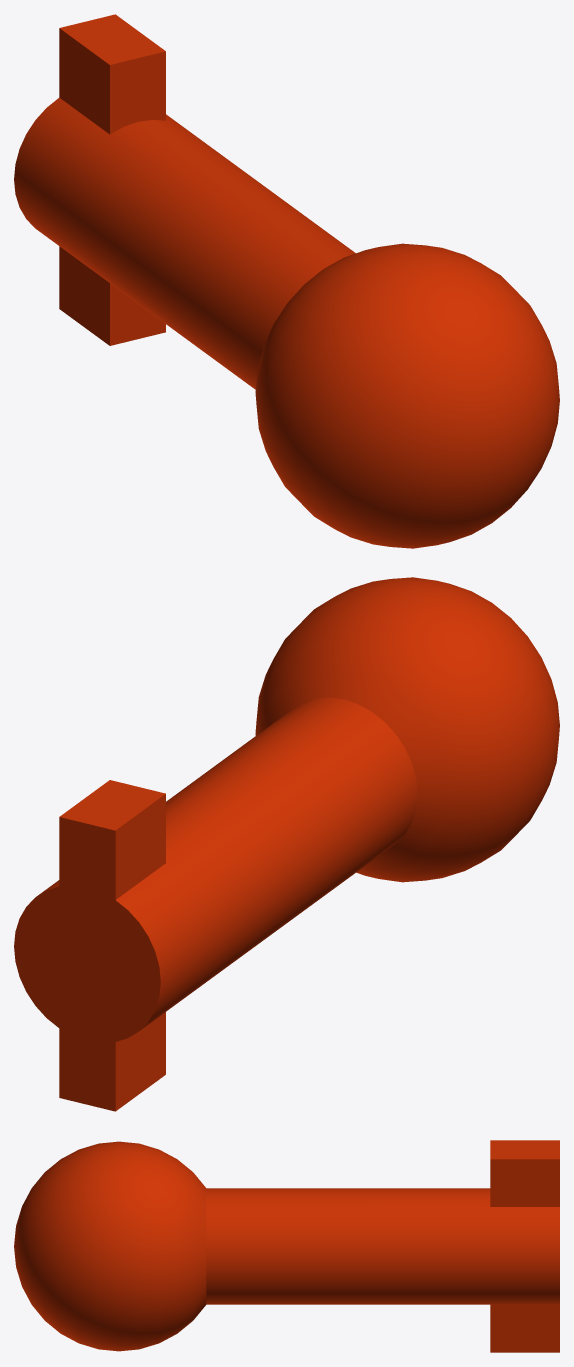
Rendered from ball_joint.obj.
The picture shows the model from 3 angles, top to bottom: view 1: azimuth 30°, elevation 25°; view 2: azimuth 150°, elevation 25°; view 3: azimuth 270°, elevation 25°; orthographic projection. The views are drawn at different scales.
Visible parts, largest first — view 1: Mesh_Sphere.001; view 2: Mesh_Sphere.001; view 3: Mesh_Sphere.001.
Boxes of the visible parts, bbox=[...] form: Mesh_Sphere.001: bbox=[14, 14, 559, 548]; Mesh_Sphere.001: bbox=[14, 577, 559, 1111]; Mesh_Sphere.001: bbox=[14, 1140, 559, 1352].
Size of the model in its own units: 0.14 by 0.1422 by 0.3639.
